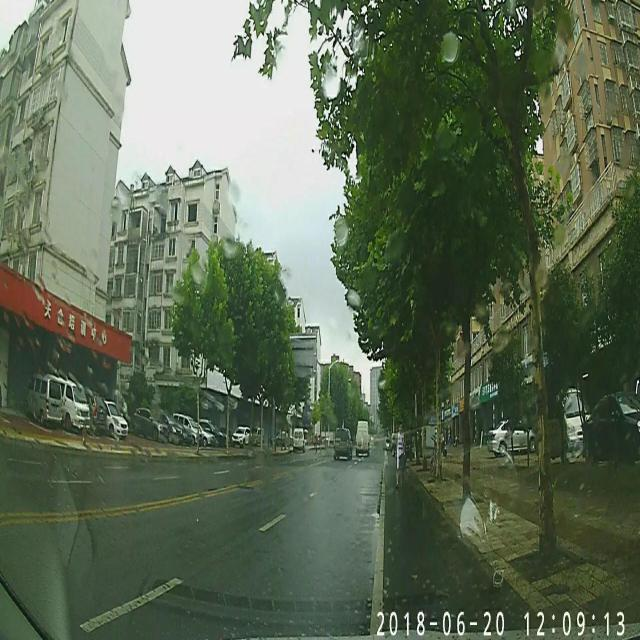car: (332, 422, 353, 459), (354, 416, 372, 458), (292, 423, 306, 453)
